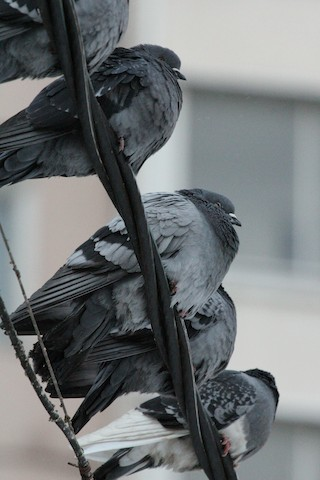pigeon: (5, 183, 248, 353), (6, 42, 193, 188), (72, 351, 285, 477)
